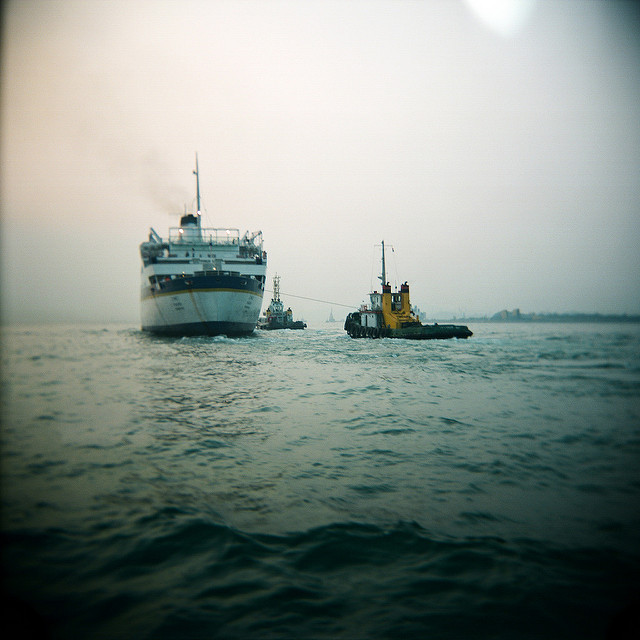tug_boat: (332, 239, 470, 340), (266, 273, 306, 339)
